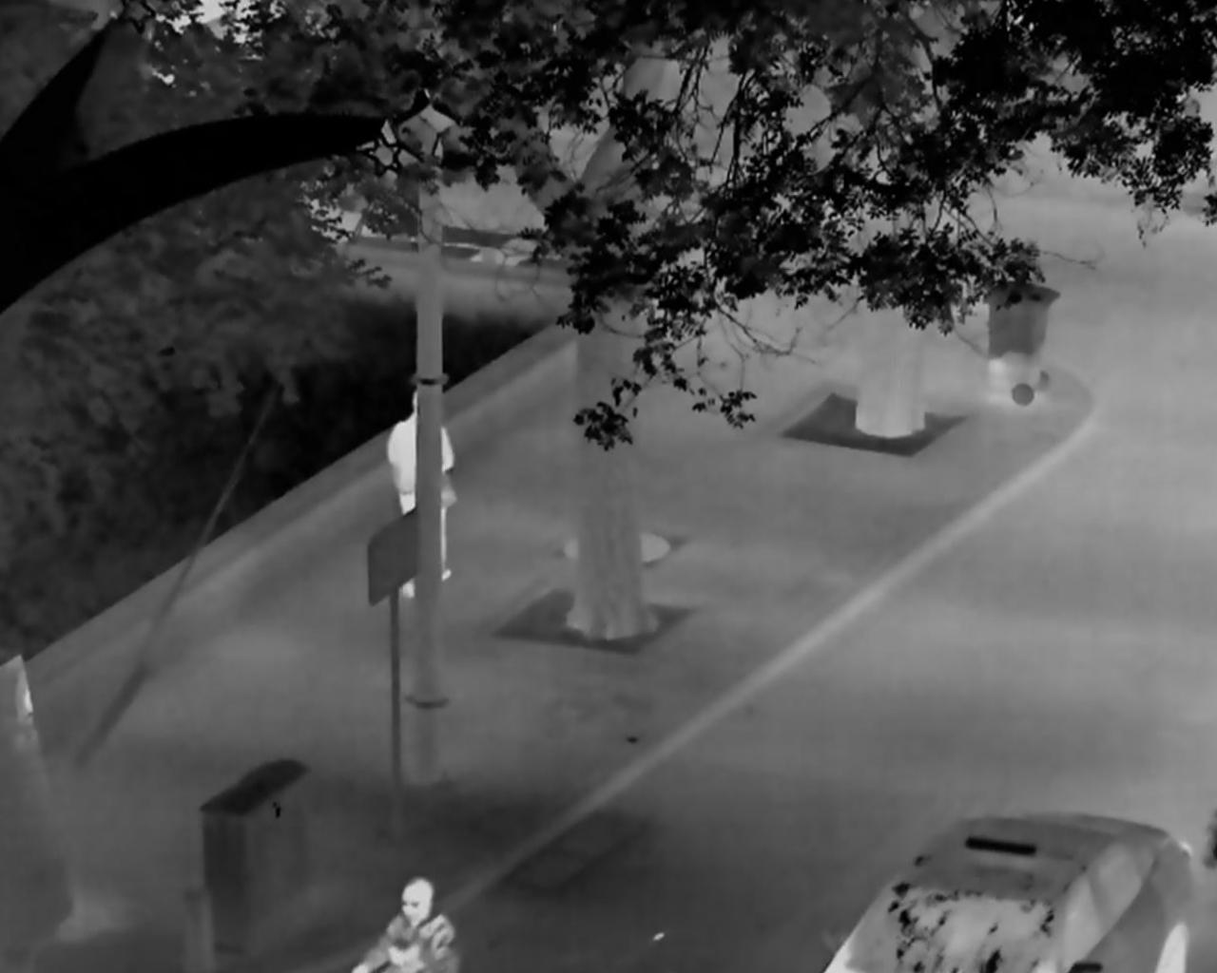person: (382, 383, 456, 598), (349, 874, 462, 973)
